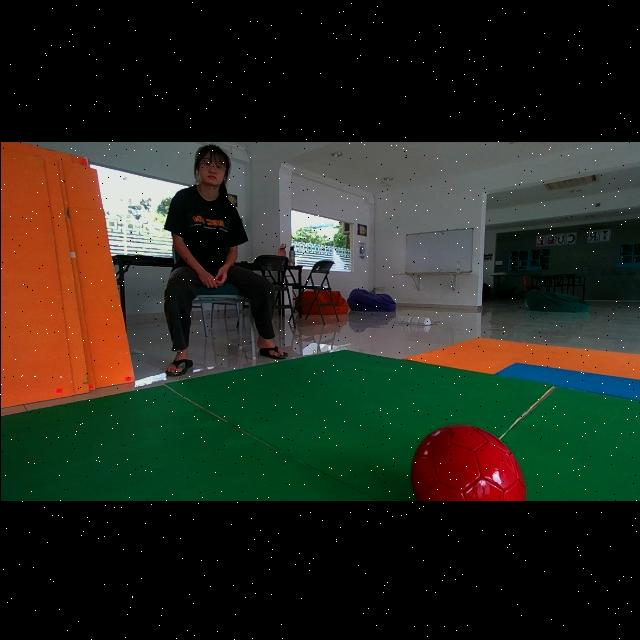R: (409, 423, 525, 500)
